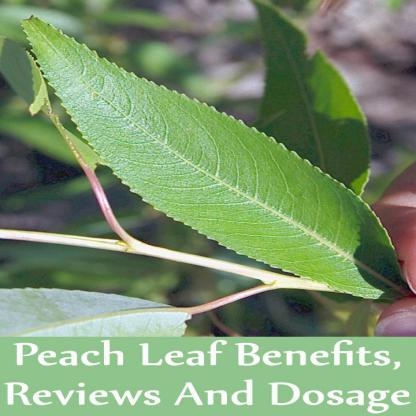Peach leaf: (24, 16, 404, 304)
